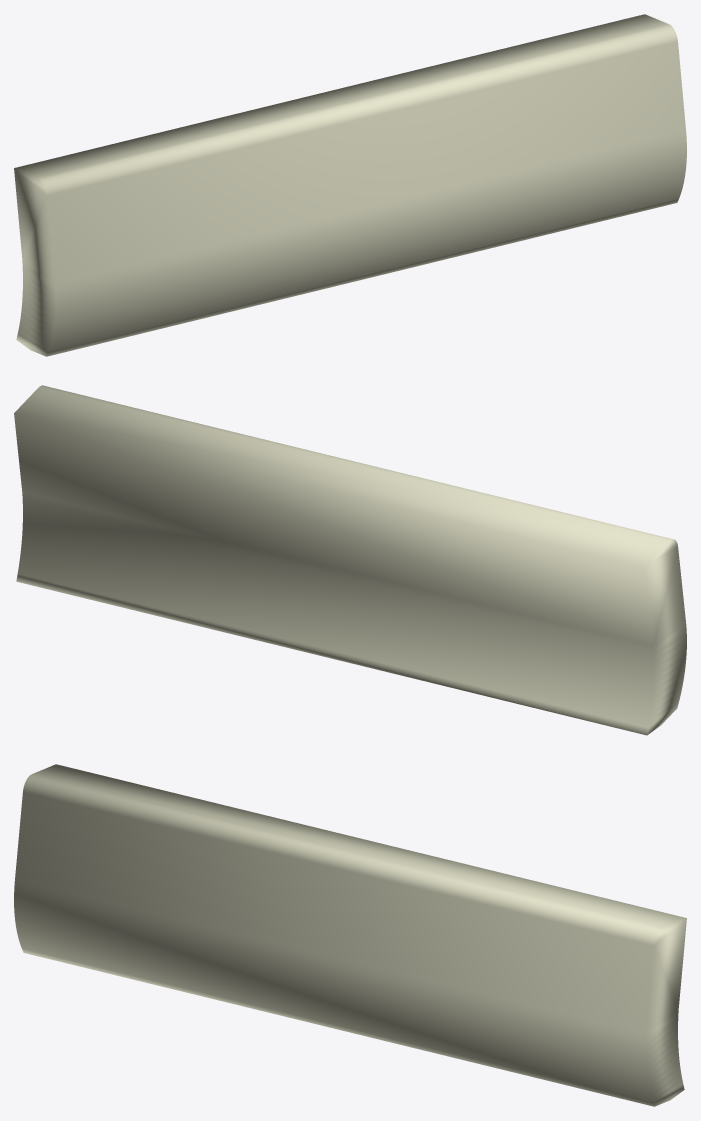
Rendered from original-3.obj.
The picture shows the model from 3 angles, top to bottom: view 1: azimuth 30°, elevation 25°; view 2: azimuth 150°, elevation 25°; view 3: azimuth 330°, elevation 25°; orthographic projection.
Parts seen in each view (by area): view 1: mesh1/mesh1-geometry#mesh1-geometry; view 2: mesh1/mesh1-geometry#mesh1-geometry; view 3: mesh1/mesh1-geometry#mesh1-geometry.
Part boxes in pixels (x1,y1,x2,y2): mesh1/mesh1-geometry#mesh1-geometry: (14,14,686,356); mesh1/mesh1-geometry#mesh1-geometry: (14,385,686,735); mesh1/mesh1-geometry#mesh1-geometry: (14,764,686,1106).
Bounding box in the file's own units: 0.8723 × 0.2352 × 0.1009.
